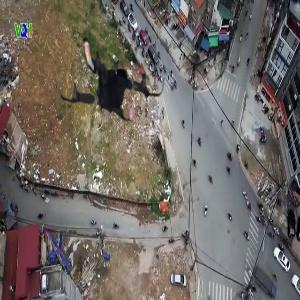drone: (53, 18, 171, 136)
